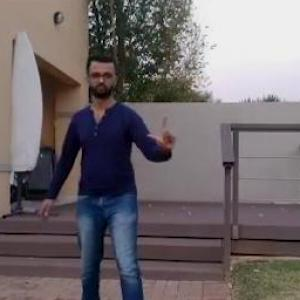land_hand: (143, 113, 180, 160)
